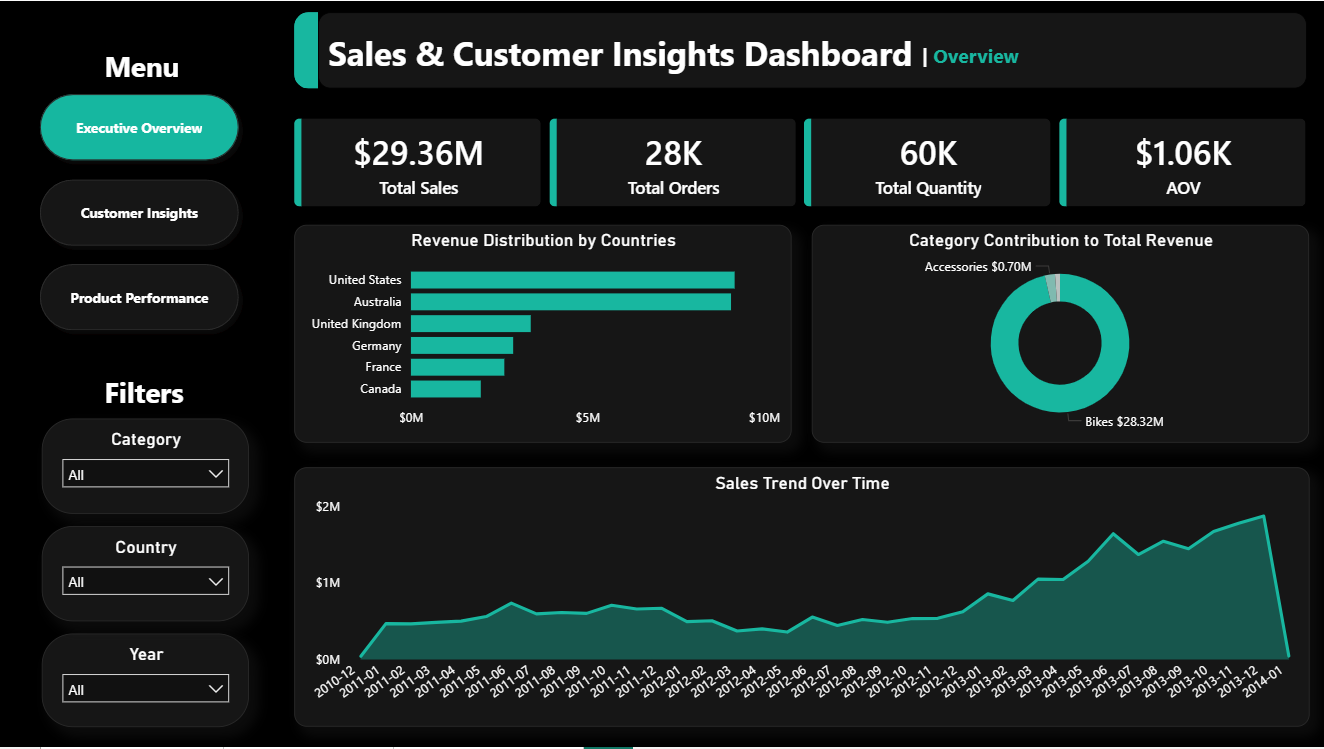

This screenshot's page, from the dashboard's own definition file:
{"tool":"powerbi","page":{"name":"Executive Overview","canvas":[1280,720],"ordinal":0},"visuals":[{"type":"cardVisual","fields":{"Data":["dax_measures.total_sales","dax_measures.total_orders","dax_measures.total_quantity","dax_measures.AOV"]},"box":[269,96.5,1011,119.4],"z":0},{"type":"lineChart","title":"Sales Trend Over Time","fields":{"Y":["dax_measures.total_sales"],"Category":["DateTable.YearMonth"]},"box":[285.7,450,980,250],"z":1000},{"type":"clusteredBarChart","title":"Revenue Distribution by Countries","fields":{"Category":["gold dim_customers.country"],"Y":["dax_measures.total_sales"]},"box":[285.9,216,480,210],"z":2000},{"type":"slicer","title":"Year","fields":{"Values":["DateTable.Year"]},"box":[42.2,610.9,200.3,90.5],"z":3000},{"type":"slicer","title":"Category","fields":{"Values":["gold dim_products.category"]},"box":[42.2,403.4,200.3,91.7],"z":4000},{"type":"slicer","title":"Country","fields":{"Values":["gold dim_customers.country"]},"box":[42.2,507.2,200.3,91.7],"z":5000},{"type":"donutChart","title":"Category Contribution to Total Revenue","fields":{"Category":["gold dim_products.category"],"Y":["dax_measures.Total Sales"]},"box":[785.4,216,480,210],"z":6000},{"type":"textbox","box":[308.8,10.9,954.3,73.6],"z":7000},{"type":"shape","box":[285.9,10.9,22.9,73.6],"z":8000},{"type":"textbox","box":[97.7,355.2,143.6,152],"z":9000},{"type":"pageNavigator","box":[31.8,80.7,210.3,247],"z":10000},{"type":"textbox","box":[97.7,39.8,302.8,360.7],"z":11000}]}

Visuals, with their boxes in screenshot pixels (x1, y1, x2, y2), scaled from the page's 1280x720 canvas onto the 1324x749 screenshot:
cardVisual - dax_measures.total_sales x dax_measures.total_orders: BBox(278, 100, 1323, 225)
"Sales Trend Over Time" lineChart: BBox(296, 468, 1309, 728)
"Revenue Distribution by Countries" clusteredBarChart: BBox(296, 225, 792, 443)
"Year" slicer: BBox(44, 636, 251, 730)
"Category" slicer: BBox(44, 420, 251, 515)
"Country" slicer: BBox(44, 528, 251, 623)
"Category Contribution to Total Revenue" donutChart: BBox(812, 225, 1309, 443)
textbox: BBox(319, 11, 1307, 88)
shape: BBox(296, 11, 319, 88)
textbox: BBox(101, 370, 250, 528)
pageNavigator: BBox(33, 84, 250, 341)
textbox: BBox(101, 41, 414, 417)
